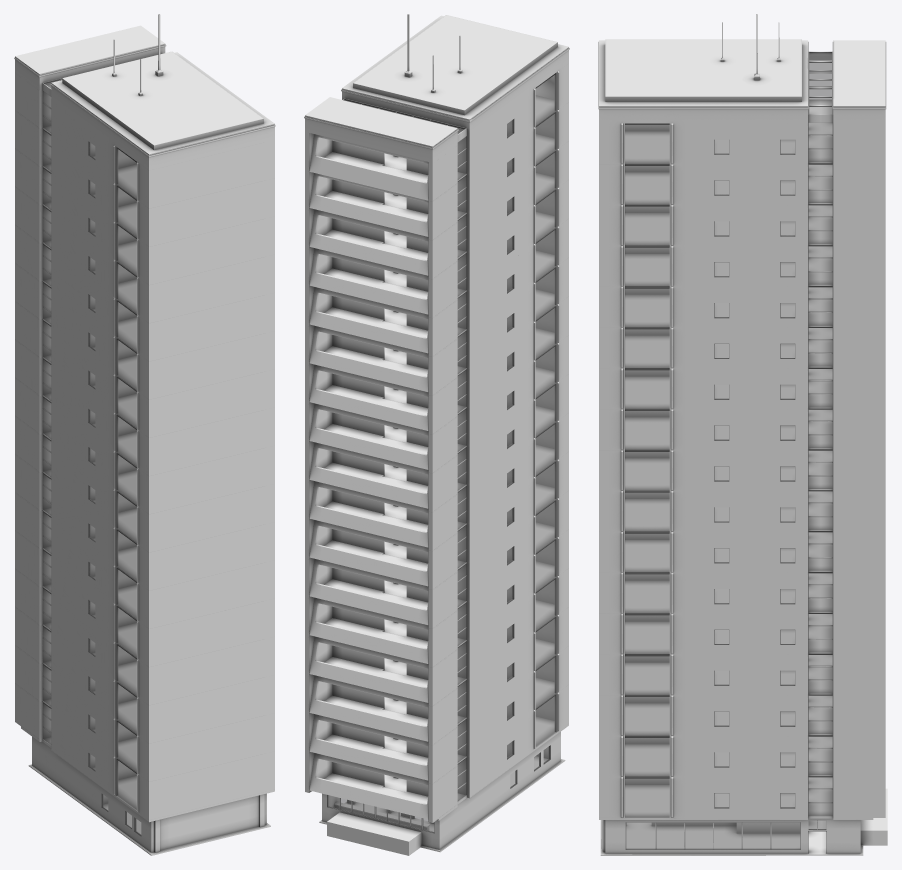
Rendered from residential_008.obj.
3 views of the same model, side by side, from view 1: azimuth 30°, elevation 25°; view 2: azimuth 150°, elevation 25°; view 3: azimuth 270°, elevation 25° (orthographic). The views are drawn at different scales.
Visible parts, largest first — view 1: Residential_Buildings_008_Cube.003; view 2: Residential_Buildings_008_Cube.003; view 3: Residential_Buildings_008_Cube.003.
Boxes of the visible parts, x1,y1,x2,y2 form: Residential_Buildings_008_Cube.003: (14,14,275,855); Residential_Buildings_008_Cube.003: (304,14,569,855); Residential_Buildings_008_Cube.003: (598,14,887,855).
Bounding box in the file's own units: 12.59 × 72.39 × 23.1.
Materials: 2 (1 with a texture image).
